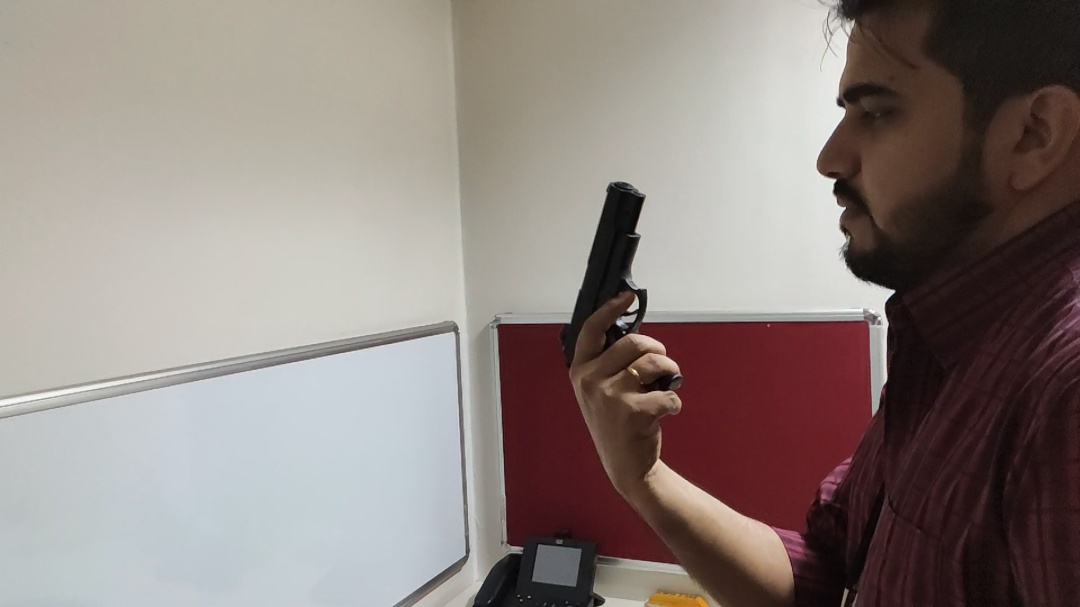gun: (558, 179, 687, 395)
